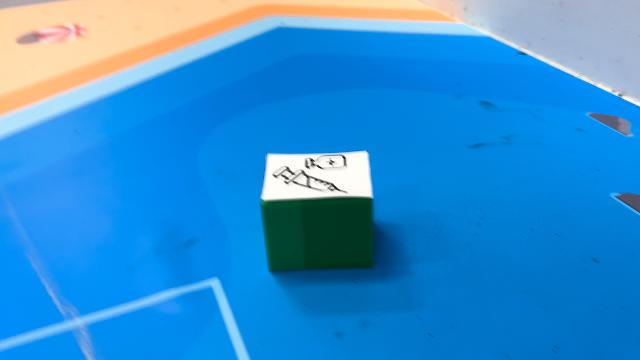syringe: (260, 150, 378, 276)
